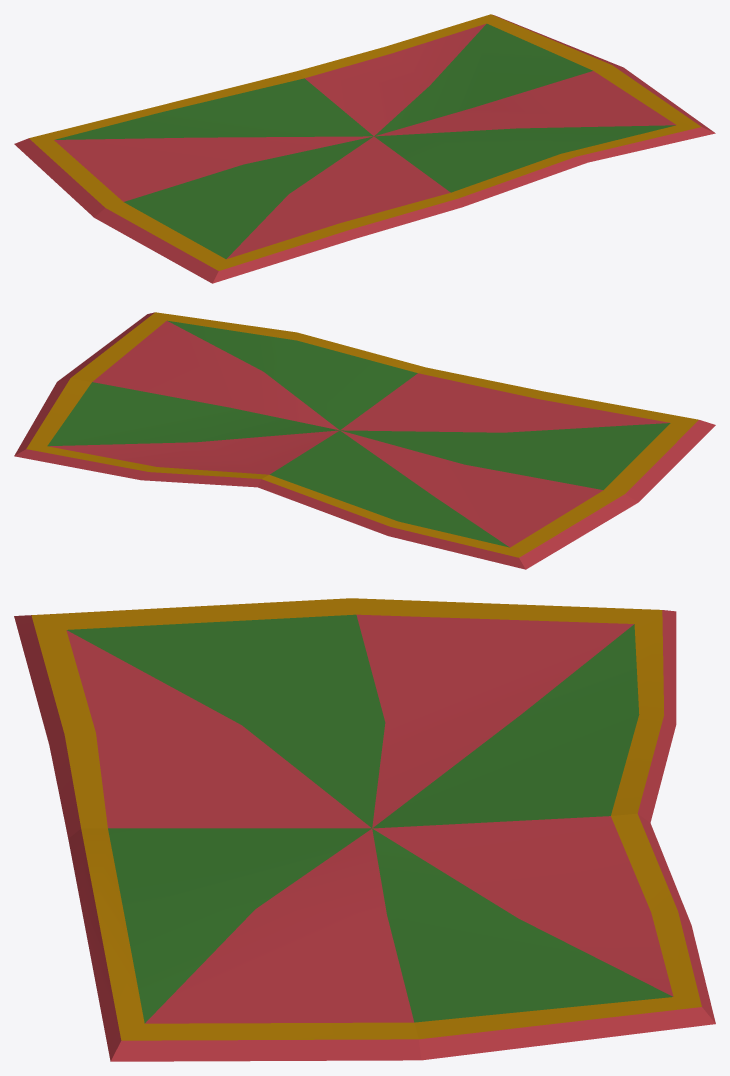
Rendered from prop_feast_carpet.fbx.
3 views of the same model, one above another, from view 1: azimuth 30°, elevation 25°; view 2: azimuth 150°, elevation 25°; view 3: azimuth 270°, elevation 25° (orthographic). The views are drawn at different scales.
Parts seen in each view (by area): view 1: feast_carpet; view 2: feast_carpet; view 3: feast_carpet.
Part boxes in pixels (bbox=[...]): feast_carpet: bbox=[14, 14, 715, 283]; feast_carpet: bbox=[14, 312, 715, 569]; feast_carpet: bbox=[14, 598, 715, 1061].
Size of the model in its own units: 1846 by 47.09 by 1182.
